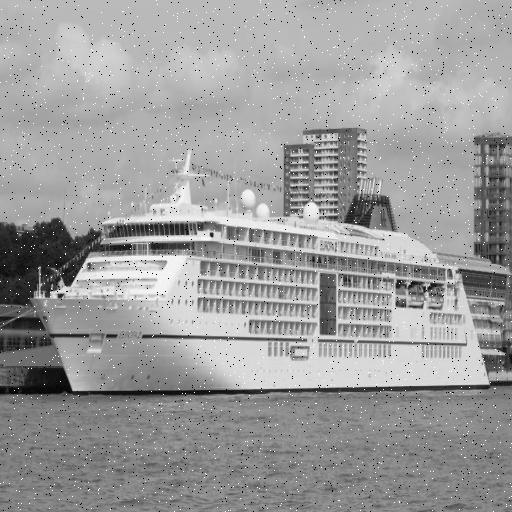cruises: (26, 139, 503, 401)
